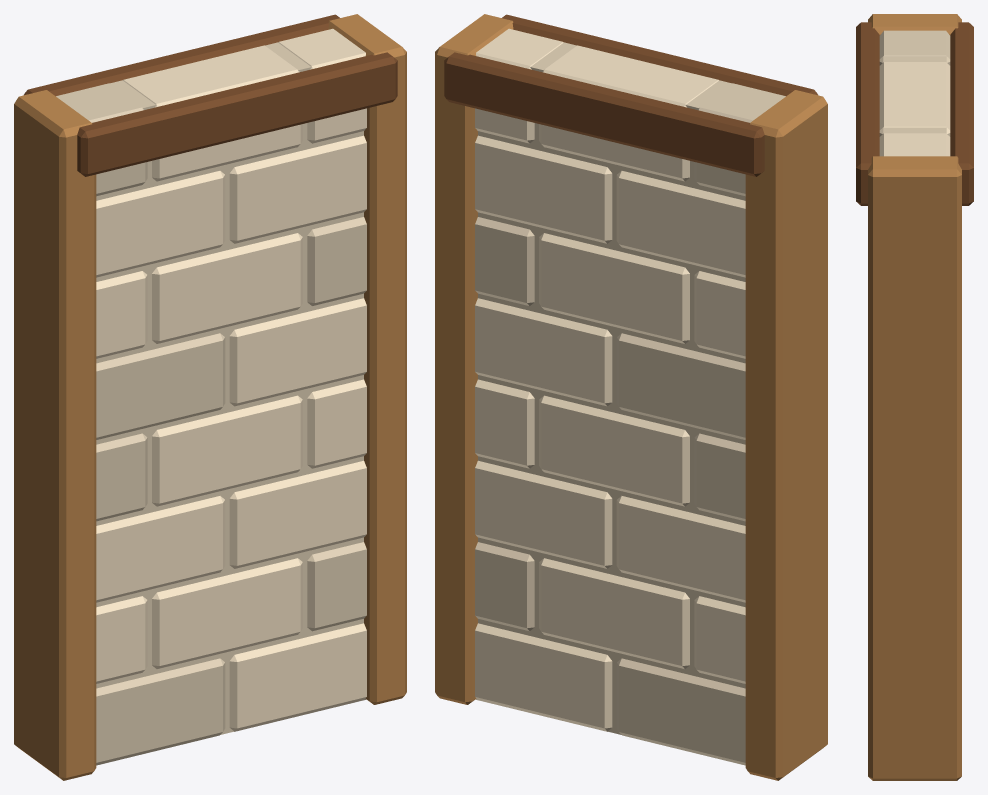
Rendered from mod_wall_straight_plain_1m.glb.
3 views of the same model, side by side, from view 1: azimuth 30°, elevation 25°; view 2: azimuth 150°, elevation 25°; view 3: azimuth 270°, elevation 25° (orthographic). The views are drawn at different scales.
Parts seen in each view (by area): view 1: mod_wall_straight_plain_1m; view 2: mod_wall_straight_plain_1m; view 3: mod_wall_straight_plain_1m.
Part boxes in pixels (box(x1,y1,x2,y2)): mod_wall_straight_plain_1m: box(14, 14, 406, 780); mod_wall_straight_plain_1m: box(435, 14, 827, 780); mod_wall_straight_plain_1m: box(856, 14, 973, 780).
Size of the model in its own units: 1.12 by 2 by 0.35.
